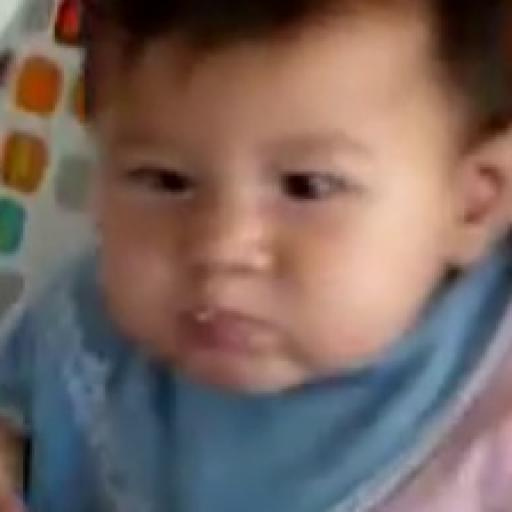Autism: (82, 10, 512, 497)
